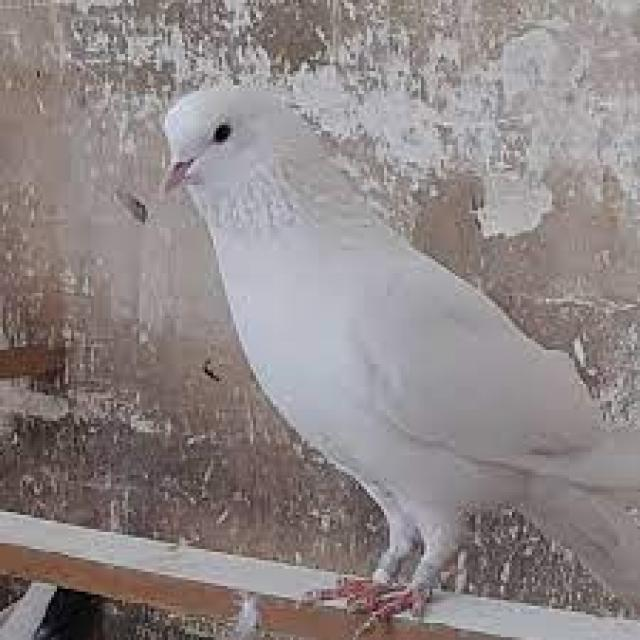bird: (158, 77, 634, 640)
